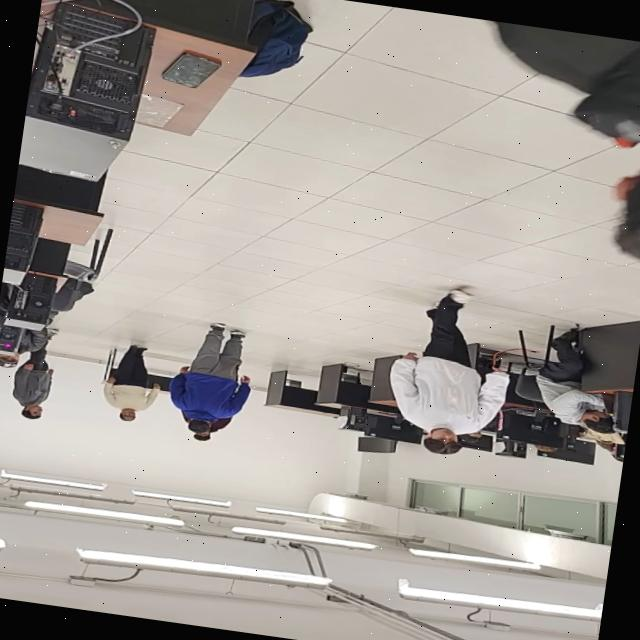Persona: (394, 285, 509, 460), (176, 314, 257, 436), (100, 338, 175, 429), (6, 335, 64, 427)
